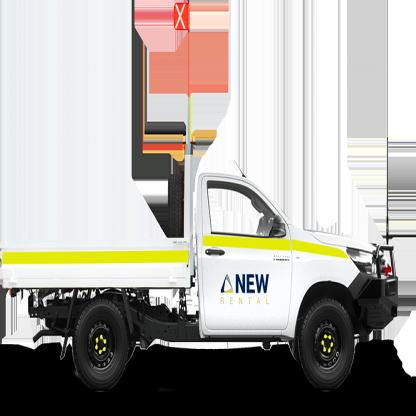light_vehicle: (0, 154, 408, 402)
